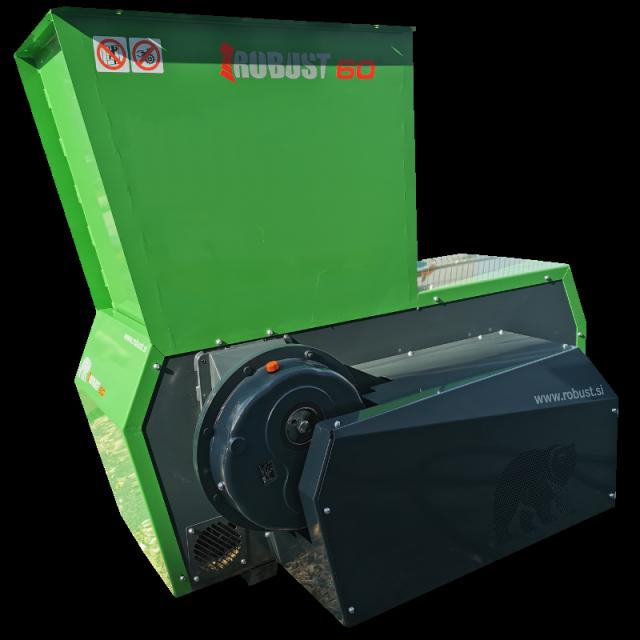Broyeur: (13, 0, 424, 327)
